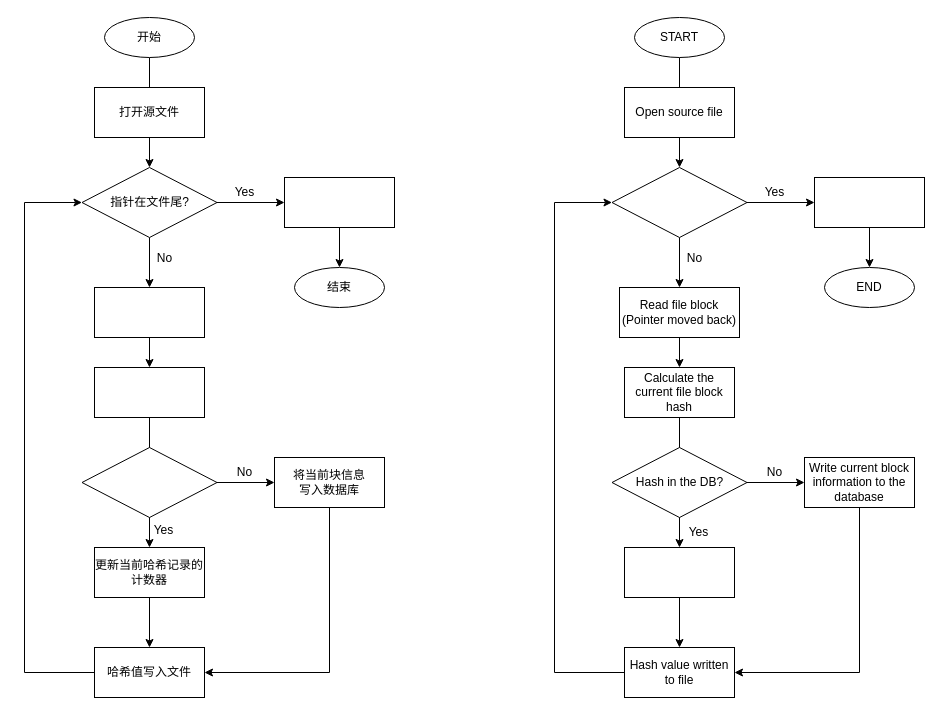
This 942x715 diagram has some shape labels left out. Here are the shapes that lost their labels. From the top down, the centre of each, then its label:
At (x=339, y=202): "关闭源文件".
At (x=679, y=202): "Pointer at the end of the file?".
At (x=869, y=202): "Close source file".
At (x=149, y=312): "读取文件块 (指针后移)".
At (x=149, y=392): "计算当前 文件块块哈希值".
At (x=149, y=482): "哈希值在数据库?".
At (x=679, y=572): "Update the counter for the current hash record in DB".
